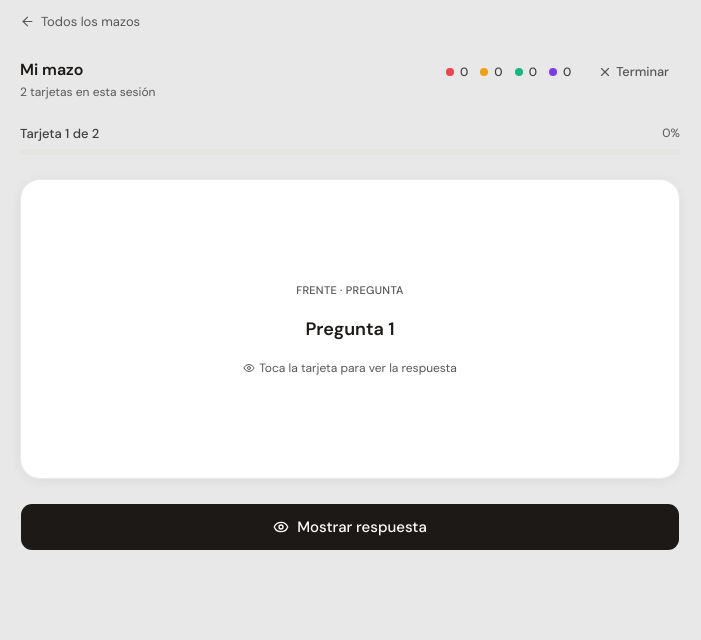
it: FlashcardPlayer › graded session (onRate/onFinish/onExit) › shows each card's own scheduling hints
Click the button with test id "flip-card": (350, 329) [20,179,680,479]
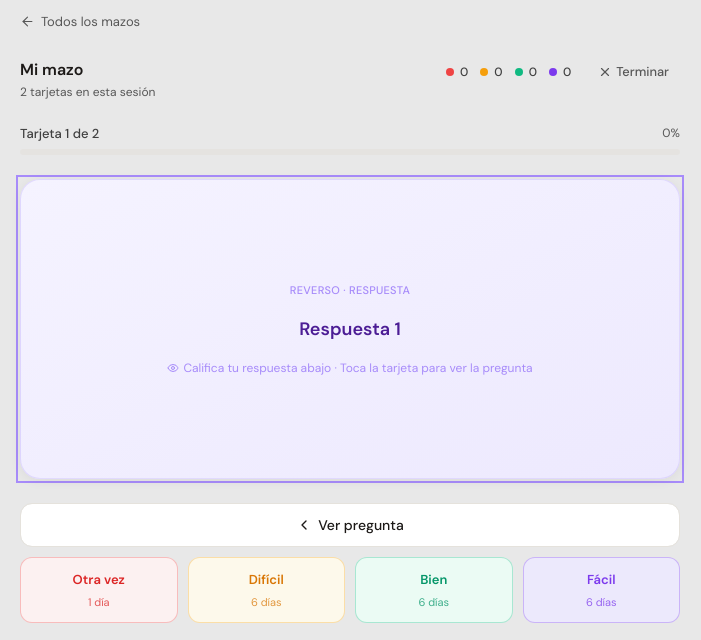
Expected: the button with test id "rate-again" shows "1 día", [20,557,178,623]
Expected: the button with test id "rate-good" shows "6 días", [355,557,512,623]
